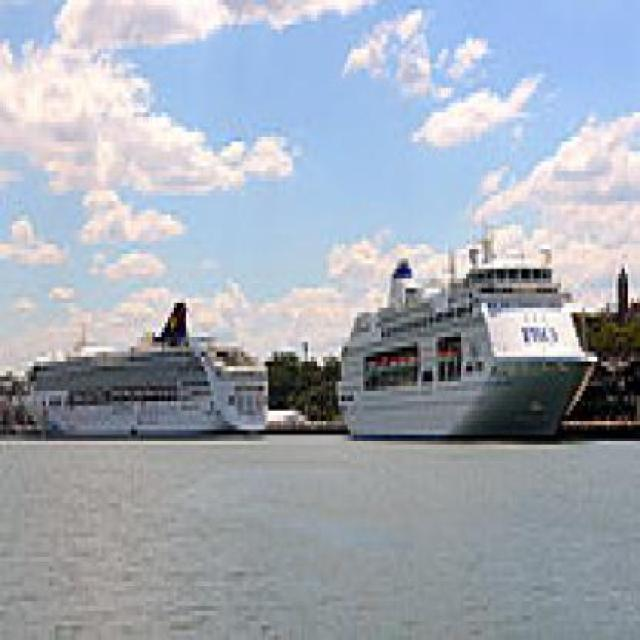cruise: (318, 221, 610, 466), (1, 293, 273, 456)
